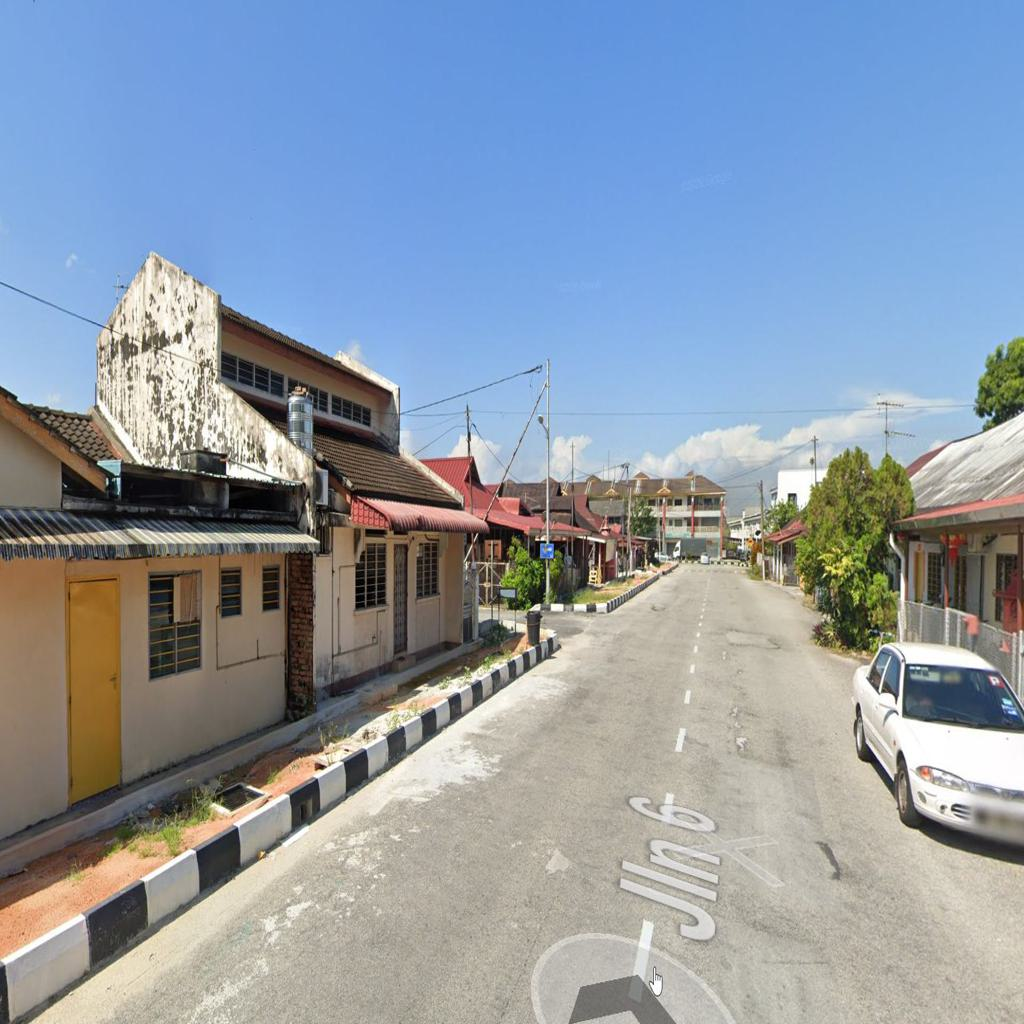Junction: (488, 577, 641, 668)
